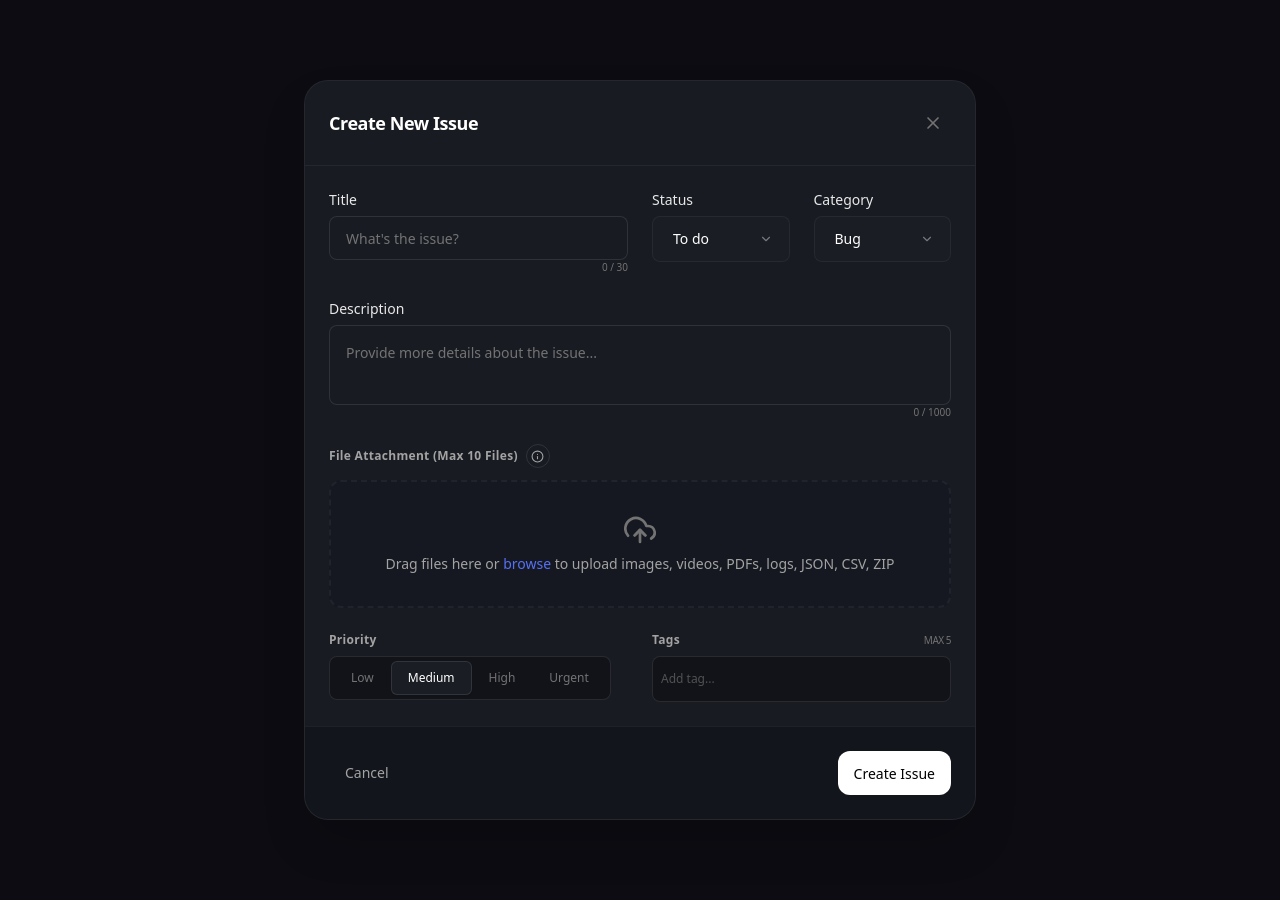
Test: IssueModal › Create Mode › keeps create submit active and marks invalid fields on submit
Click the button "Create Issue": (894, 773) [838,751,951,795]
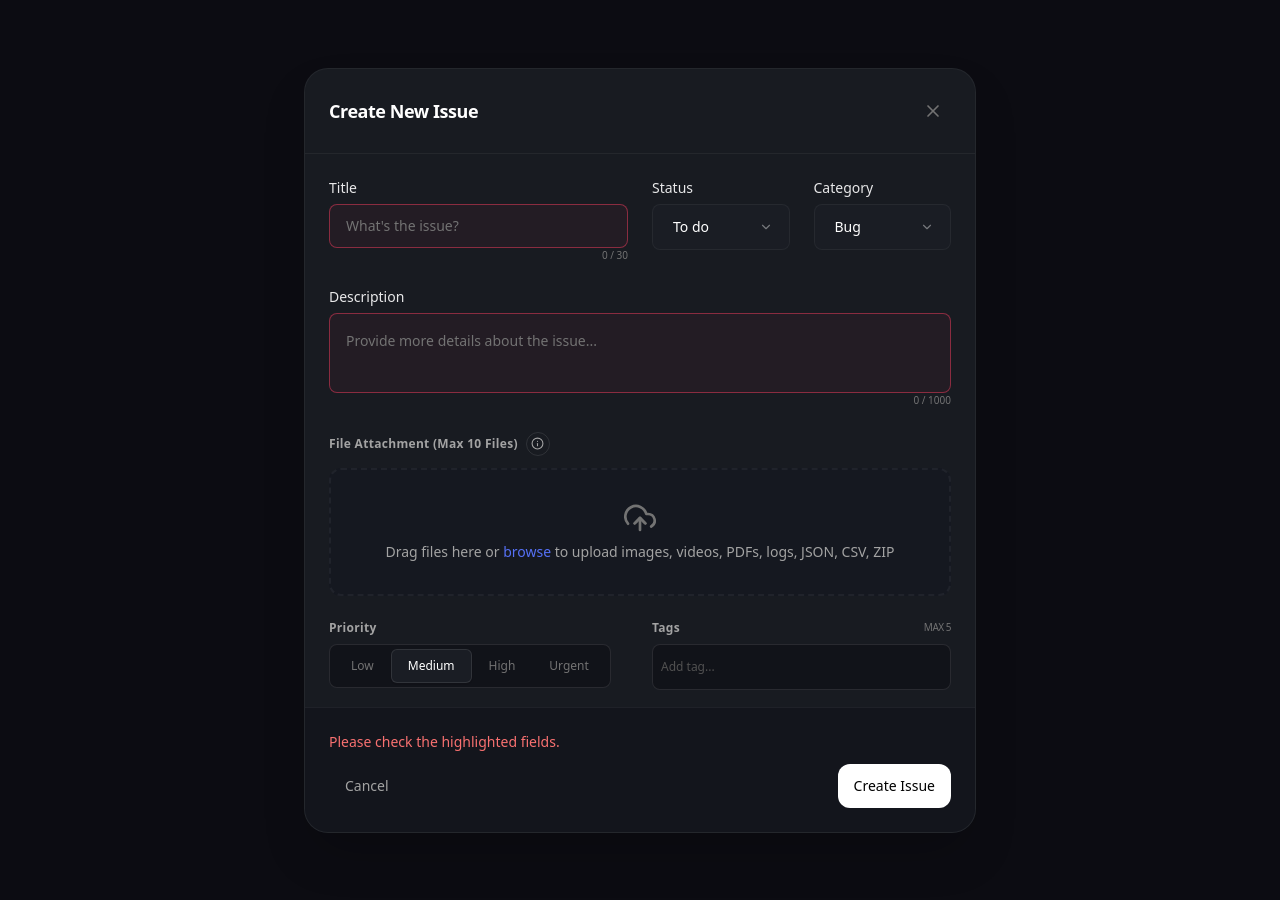
Now the text "Please check the highlighted fields." is shown, box [329,732,560,750]
